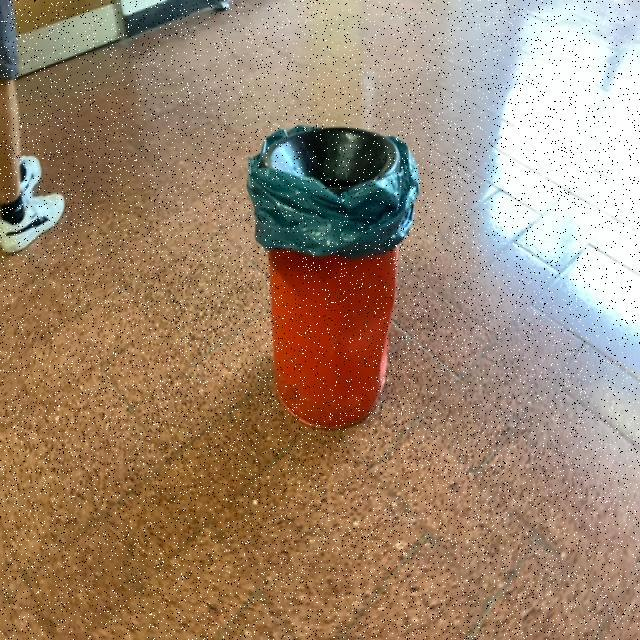garbage container: (241, 113, 429, 450)
